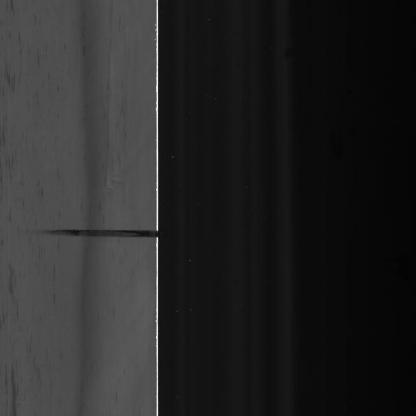crease: (29, 213, 164, 250)
